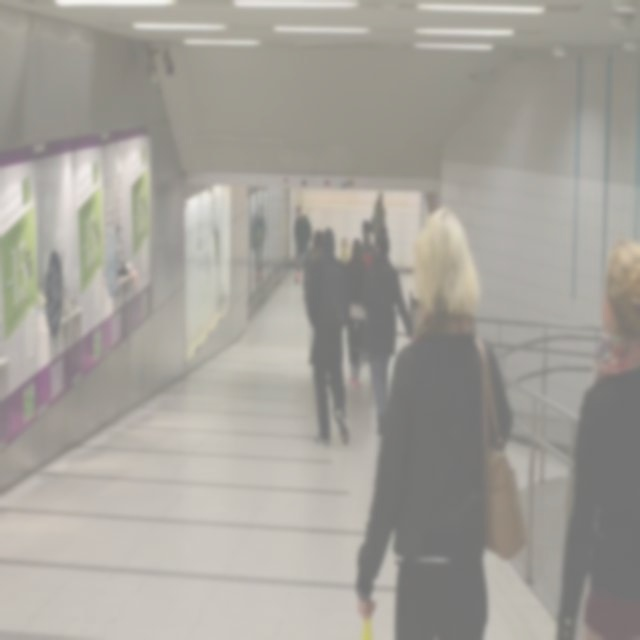pessoa: (354, 202, 530, 638), (556, 238, 640, 638), (362, 228, 415, 433), (303, 226, 352, 446), (344, 238, 368, 390), (301, 228, 326, 368), (359, 218, 378, 366), (106, 224, 140, 298), (292, 204, 313, 286), (250, 198, 268, 282), (371, 190, 386, 254), (200, 246, 216, 292), (338, 236, 351, 264)
